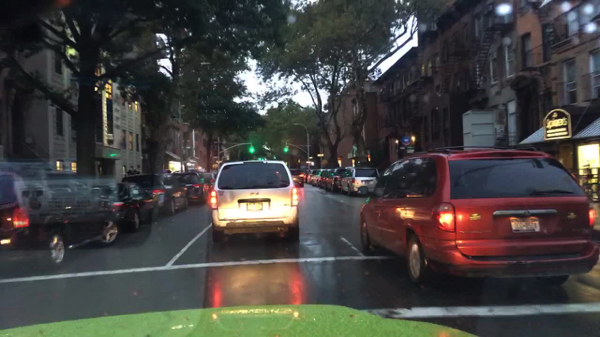car: (357, 147, 598, 290), (0, 169, 119, 269), (208, 160, 305, 243), (88, 178, 162, 232), (118, 173, 191, 217), (168, 170, 212, 205), (338, 166, 381, 198), (329, 166, 348, 192), (286, 168, 305, 188), (322, 167, 337, 191), (200, 168, 216, 190), (313, 167, 326, 186), (305, 168, 319, 184)
traffic light: (282, 144, 291, 154), (247, 143, 255, 153)
traffic sign: (315, 152, 324, 160)
